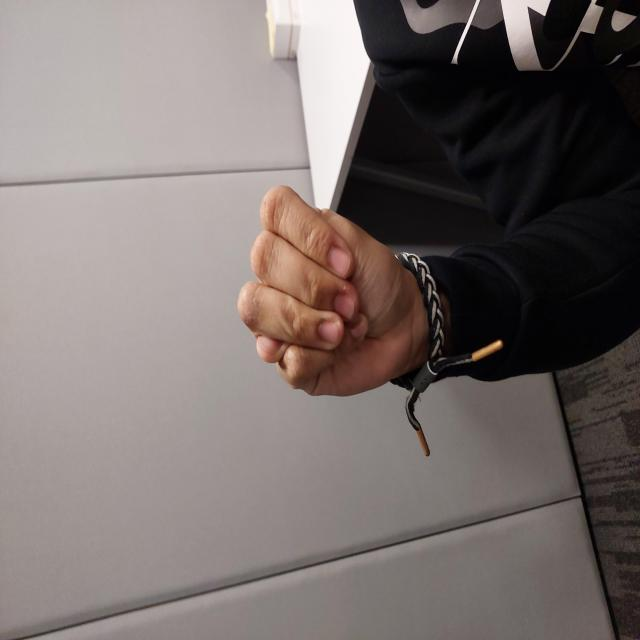M: (241, 236, 456, 441)
